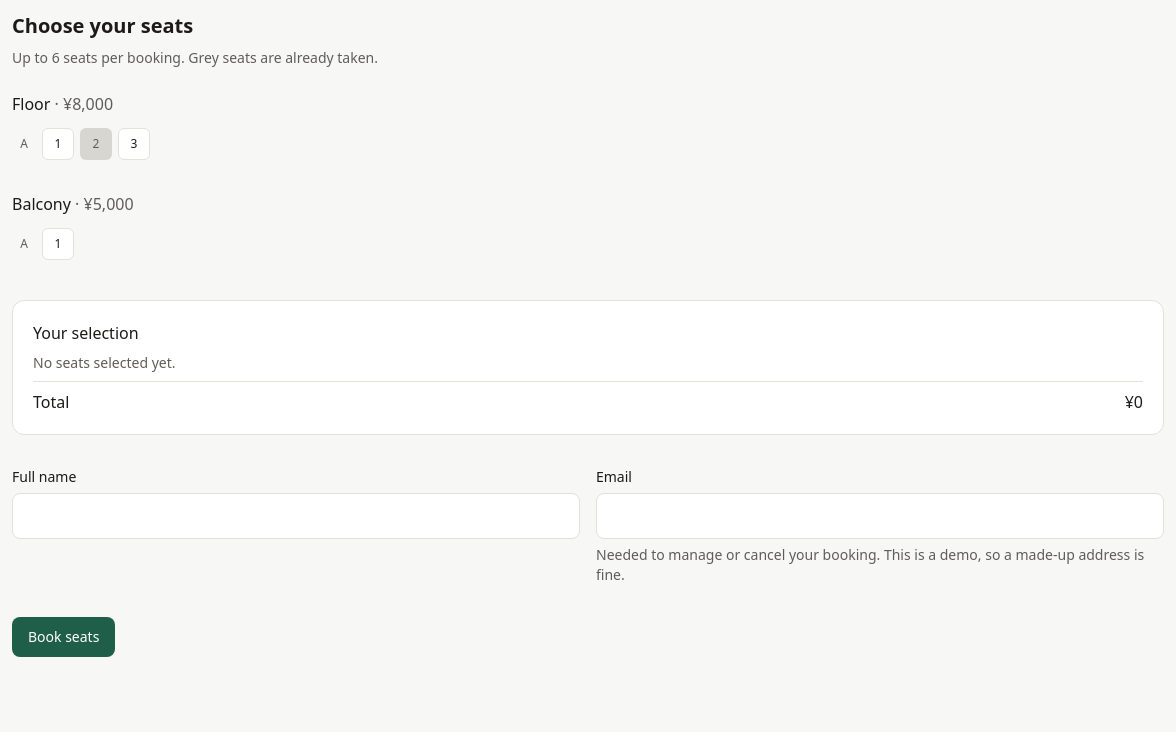
BookingForm › removes a seat when it is clicked again
What coordinates should you click on to do the following:
click the checkbox named "Floor, row A, seat 1"
I would click on:
 (58, 144)
Its box is [42,128,74,160].
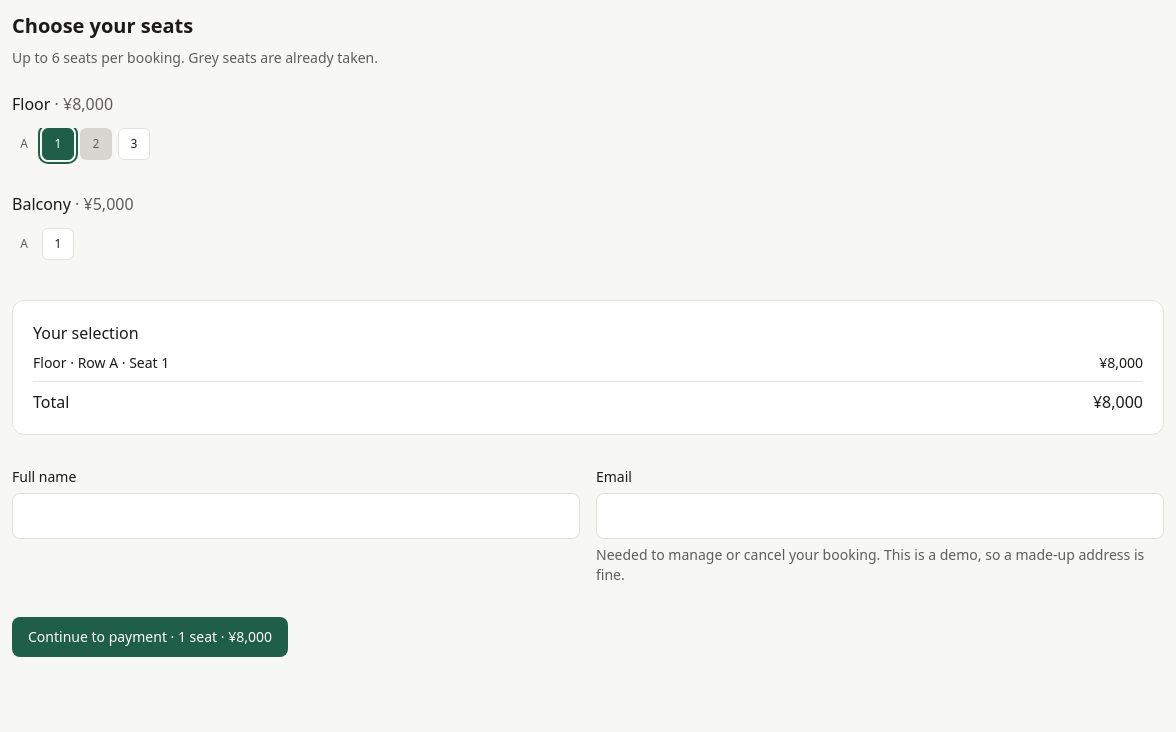
What coordinates should you click on to do the following:
click the checkbox named "Floor, row A, seat 1"
I would click on:
 (58, 144)
Its box is [42,128,74,160].
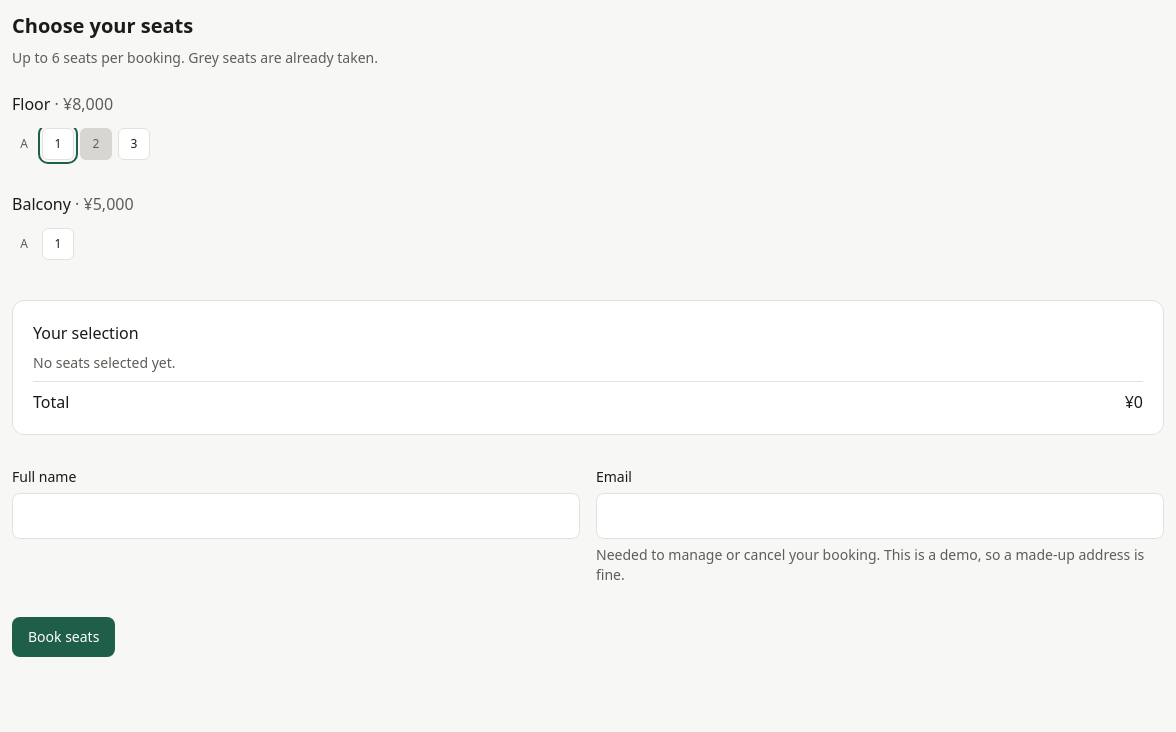
expect the text "No seats selected yet." is shown: met, box [33,353,176,372]
expect the text with test id "booking-total" reads "¥0": met, box [1125,391,1143,413]
